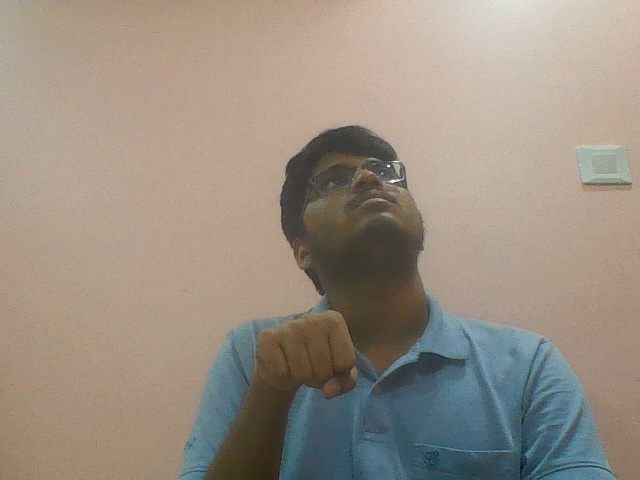yes: (245, 309, 369, 410)
